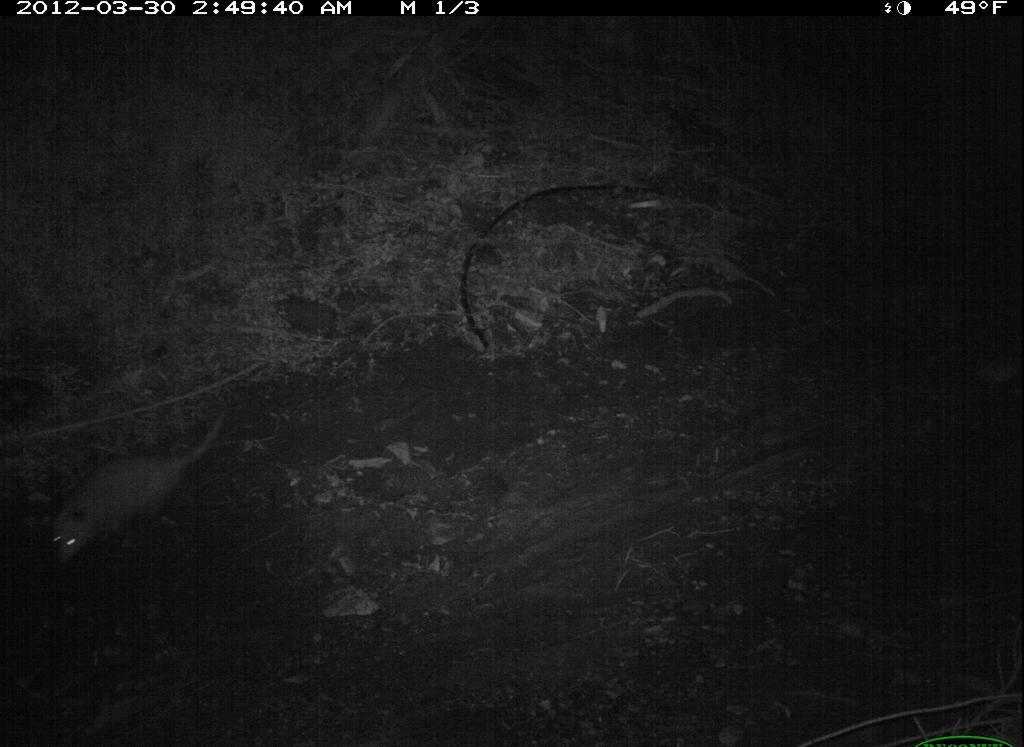opossum: (40, 409, 219, 572)
